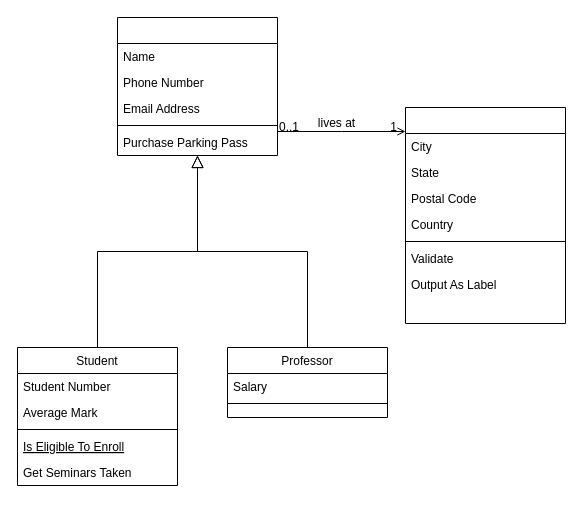
This 583x506 diagram has some shape labels left out. Each missing label, with the box of its shape:
Address: (404, 106, 566, 324)
Person: (116, 16, 278, 156)
